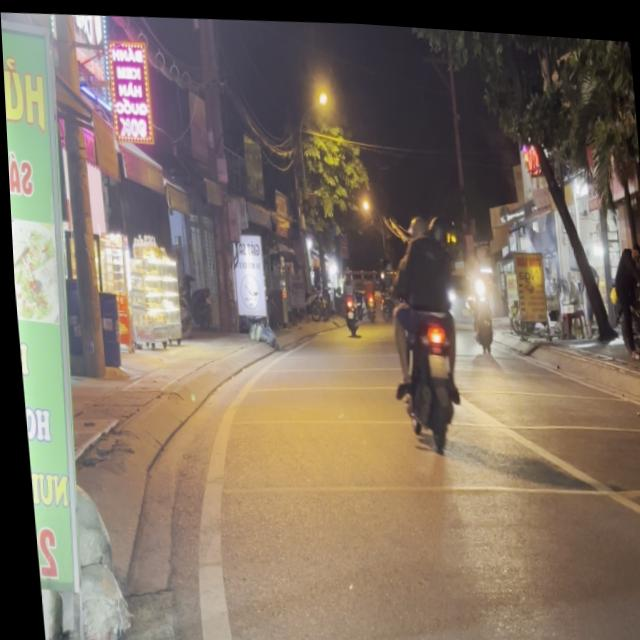helmet: (421, 206, 447, 242), (404, 208, 427, 237)
licenseplate: (375, 196, 466, 448)
nohelmet: (422, 347, 443, 371)
